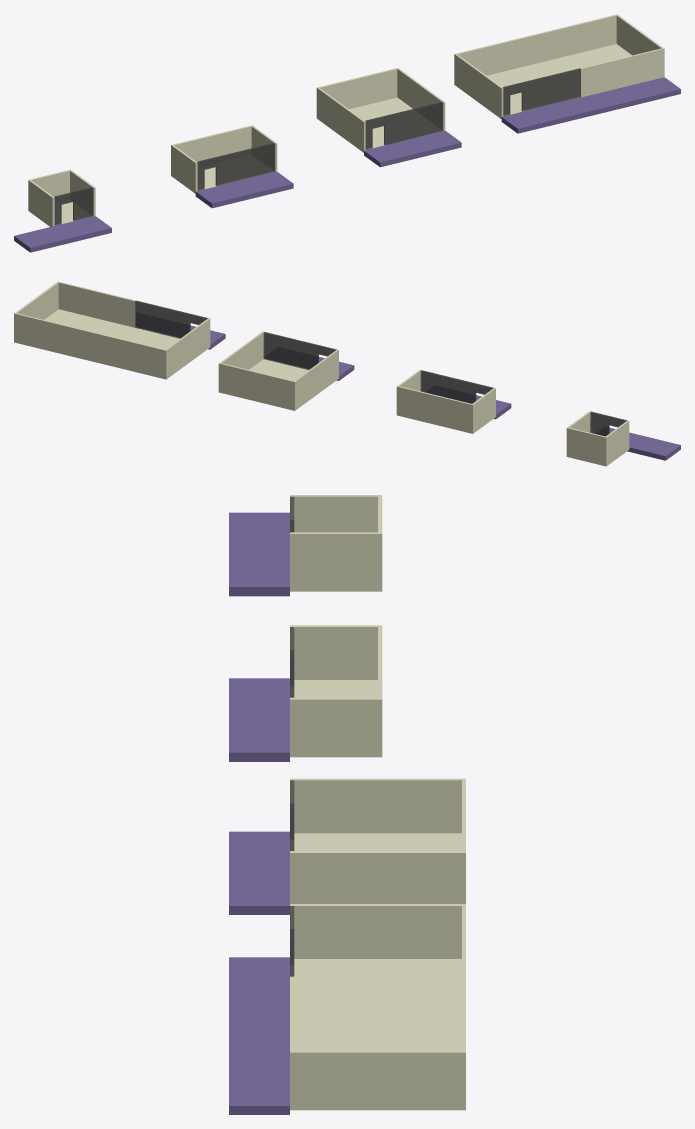
Rendered from room_blocks.fbx.
3 renders of one model, top to bottom at view 1: azimuth 30°, elevation 25°; view 2: azimuth 150°, elevation 25°; view 3: azimuth 270°, elevation 25°, orthographic. The views are drawn at different scales.
Parts seen in each view (by area): view 1: Object 2 Copy, Object 7 Copy 3, Object 3 Copy 3, Object 10, Object 4 Copy, Object 4, Object 4 Copy 3, Object 2, Object 7 Copy, Object 7 Copy 2, Object 7, Object 2 Copy 2 (+12 smaller); view 2: Object 2 Copy, Object 3 Copy 3, Object 2, Object 10, Object 2 Copy 2, Object 4, Object 4 Copy 3, Object 4 Copy, Object 9 Copy 7, Object 9 Copy, Object 3, Object 2 Copy 3 (+8 smaller); view 3: Object 3 Copy 3, Object 7 Copy 3, Object 9 Copy, Object 9 Copy 8, Object 9 Copy 7, Object 9, Object 9 Copy 2, Object 7 Copy 2, Object 7, Object 7 Copy, Object 9 Copy 4, Object 9 Copy 3 (+3 smaller).
Part boxes in pixels (x1,y1,x2,y2): Object 2 Copy: (454, 14, 617, 82); Object 7 Copy 3: (501, 77, 680, 133); Object 3 Copy 3: (454, 44, 631, 118); Object 10: (580, 48, 662, 97); Object 4 Copy: (197, 143, 275, 190); Object 4: (365, 102, 443, 149); Object 4 Copy 3: (502, 68, 580, 116); Object 2: (316, 68, 398, 116); Object 7 Copy: (195, 172, 293, 208); Object 7 Copy 2: (14, 216, 111, 252); Object 7: (364, 130, 461, 167); Object 2 Copy 2: (173, 125, 251, 161); Object 2 Copy: (14, 313, 167, 377); Object 3 Copy 3: (14, 309, 210, 379); Object 2: (218, 363, 295, 408); Object 10: (58, 282, 135, 327); Object 2 Copy 2: (398, 386, 471, 430); Object 4: (263, 332, 336, 369); Object 4 Copy 3: (135, 300, 207, 338); Object 4 Copy: (420, 370, 493, 403); Object 9 Copy 7: (166, 318, 210, 376); Object 9 Copy: (294, 349, 338, 407); Object 3: (218, 358, 338, 410); Object 2 Copy 3: (568, 427, 605, 463); Object 3 Copy 3: (290, 959, 465, 1110); Object 7 Copy 3: (229, 957, 289, 1114); Object 9 Copy: (290, 778, 461, 833); Object 9 Copy 8: (290, 1051, 461, 1105); Object 9 Copy 7: (290, 904, 461, 958); Object 9: (290, 851, 461, 903); Object 9 Copy 2: (290, 697, 382, 752); Object 7 Copy 2: (229, 512, 289, 596); Object 7: (229, 831, 289, 914); Object 7 Copy: (229, 678, 289, 761); Object 9 Copy 4: (290, 532, 382, 586); Object 9 Copy 3: (290, 625, 382, 679).
Bounding box in the file's own units: 83781 × 14151 × 4100.
